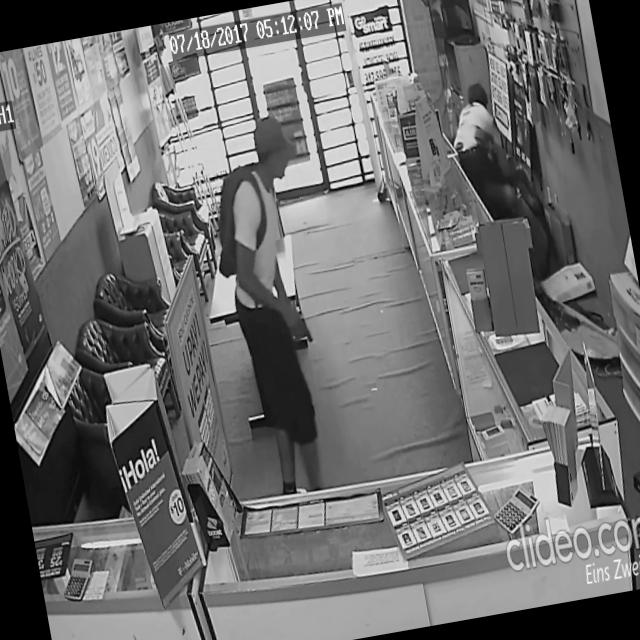gun: (288, 304, 318, 354)
person: (444, 72, 532, 278)
person with a gun: (192, 107, 362, 520)
